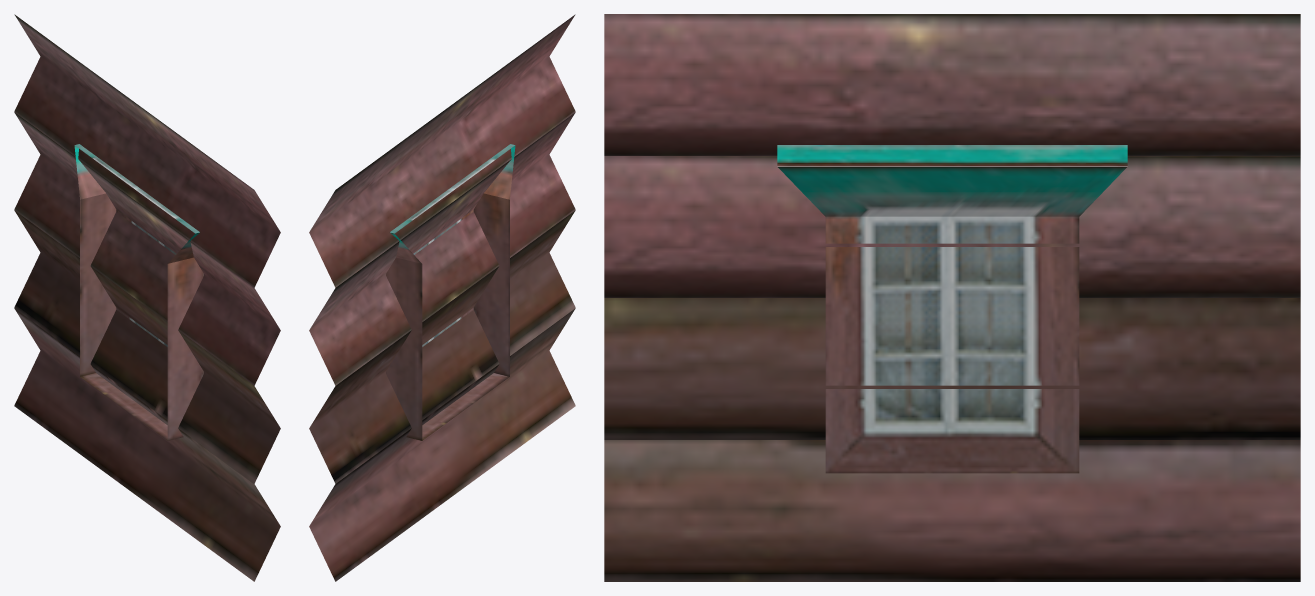
File: houseModuleAndWindows.fbx
3 renders of one model, left to right at view 1: azimuth 30°, elevation 25°; view 2: azimuth 150°, elevation 25°; view 3: azimuth 270°, elevation 25°, orthographic. The views are drawn at different scales.
Parts seen in each view (by area): view 1: wall005, Box005; view 2: wall005, Box005; view 3: wall005, Box005.
Boxes of the visible parts, x1,y1,x2,y2 form: wall005: (14, 14, 280, 581); Box005: (74, 144, 203, 440); wall005: (309, 14, 575, 581); Box005: (386, 144, 515, 440); wall005: (604, 14, 1300, 581); Box005: (777, 145, 1127, 473).
Size of the model in its own units: 30.18 by 267 by 240.
